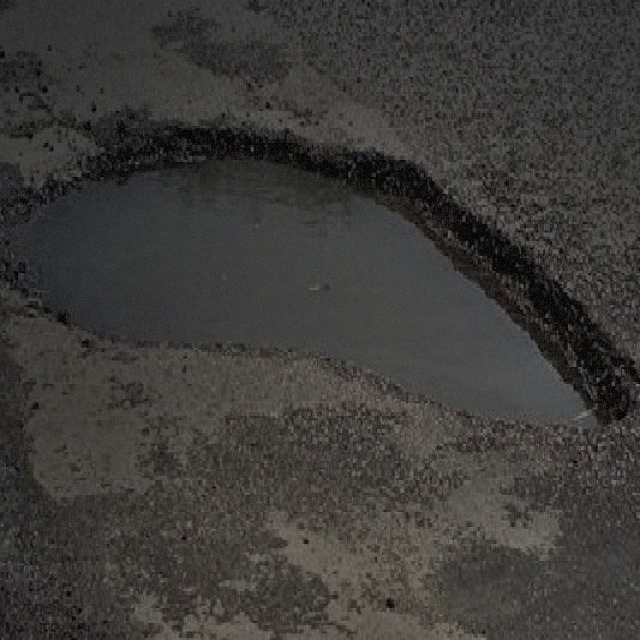pothole: (0, 122, 634, 440)
